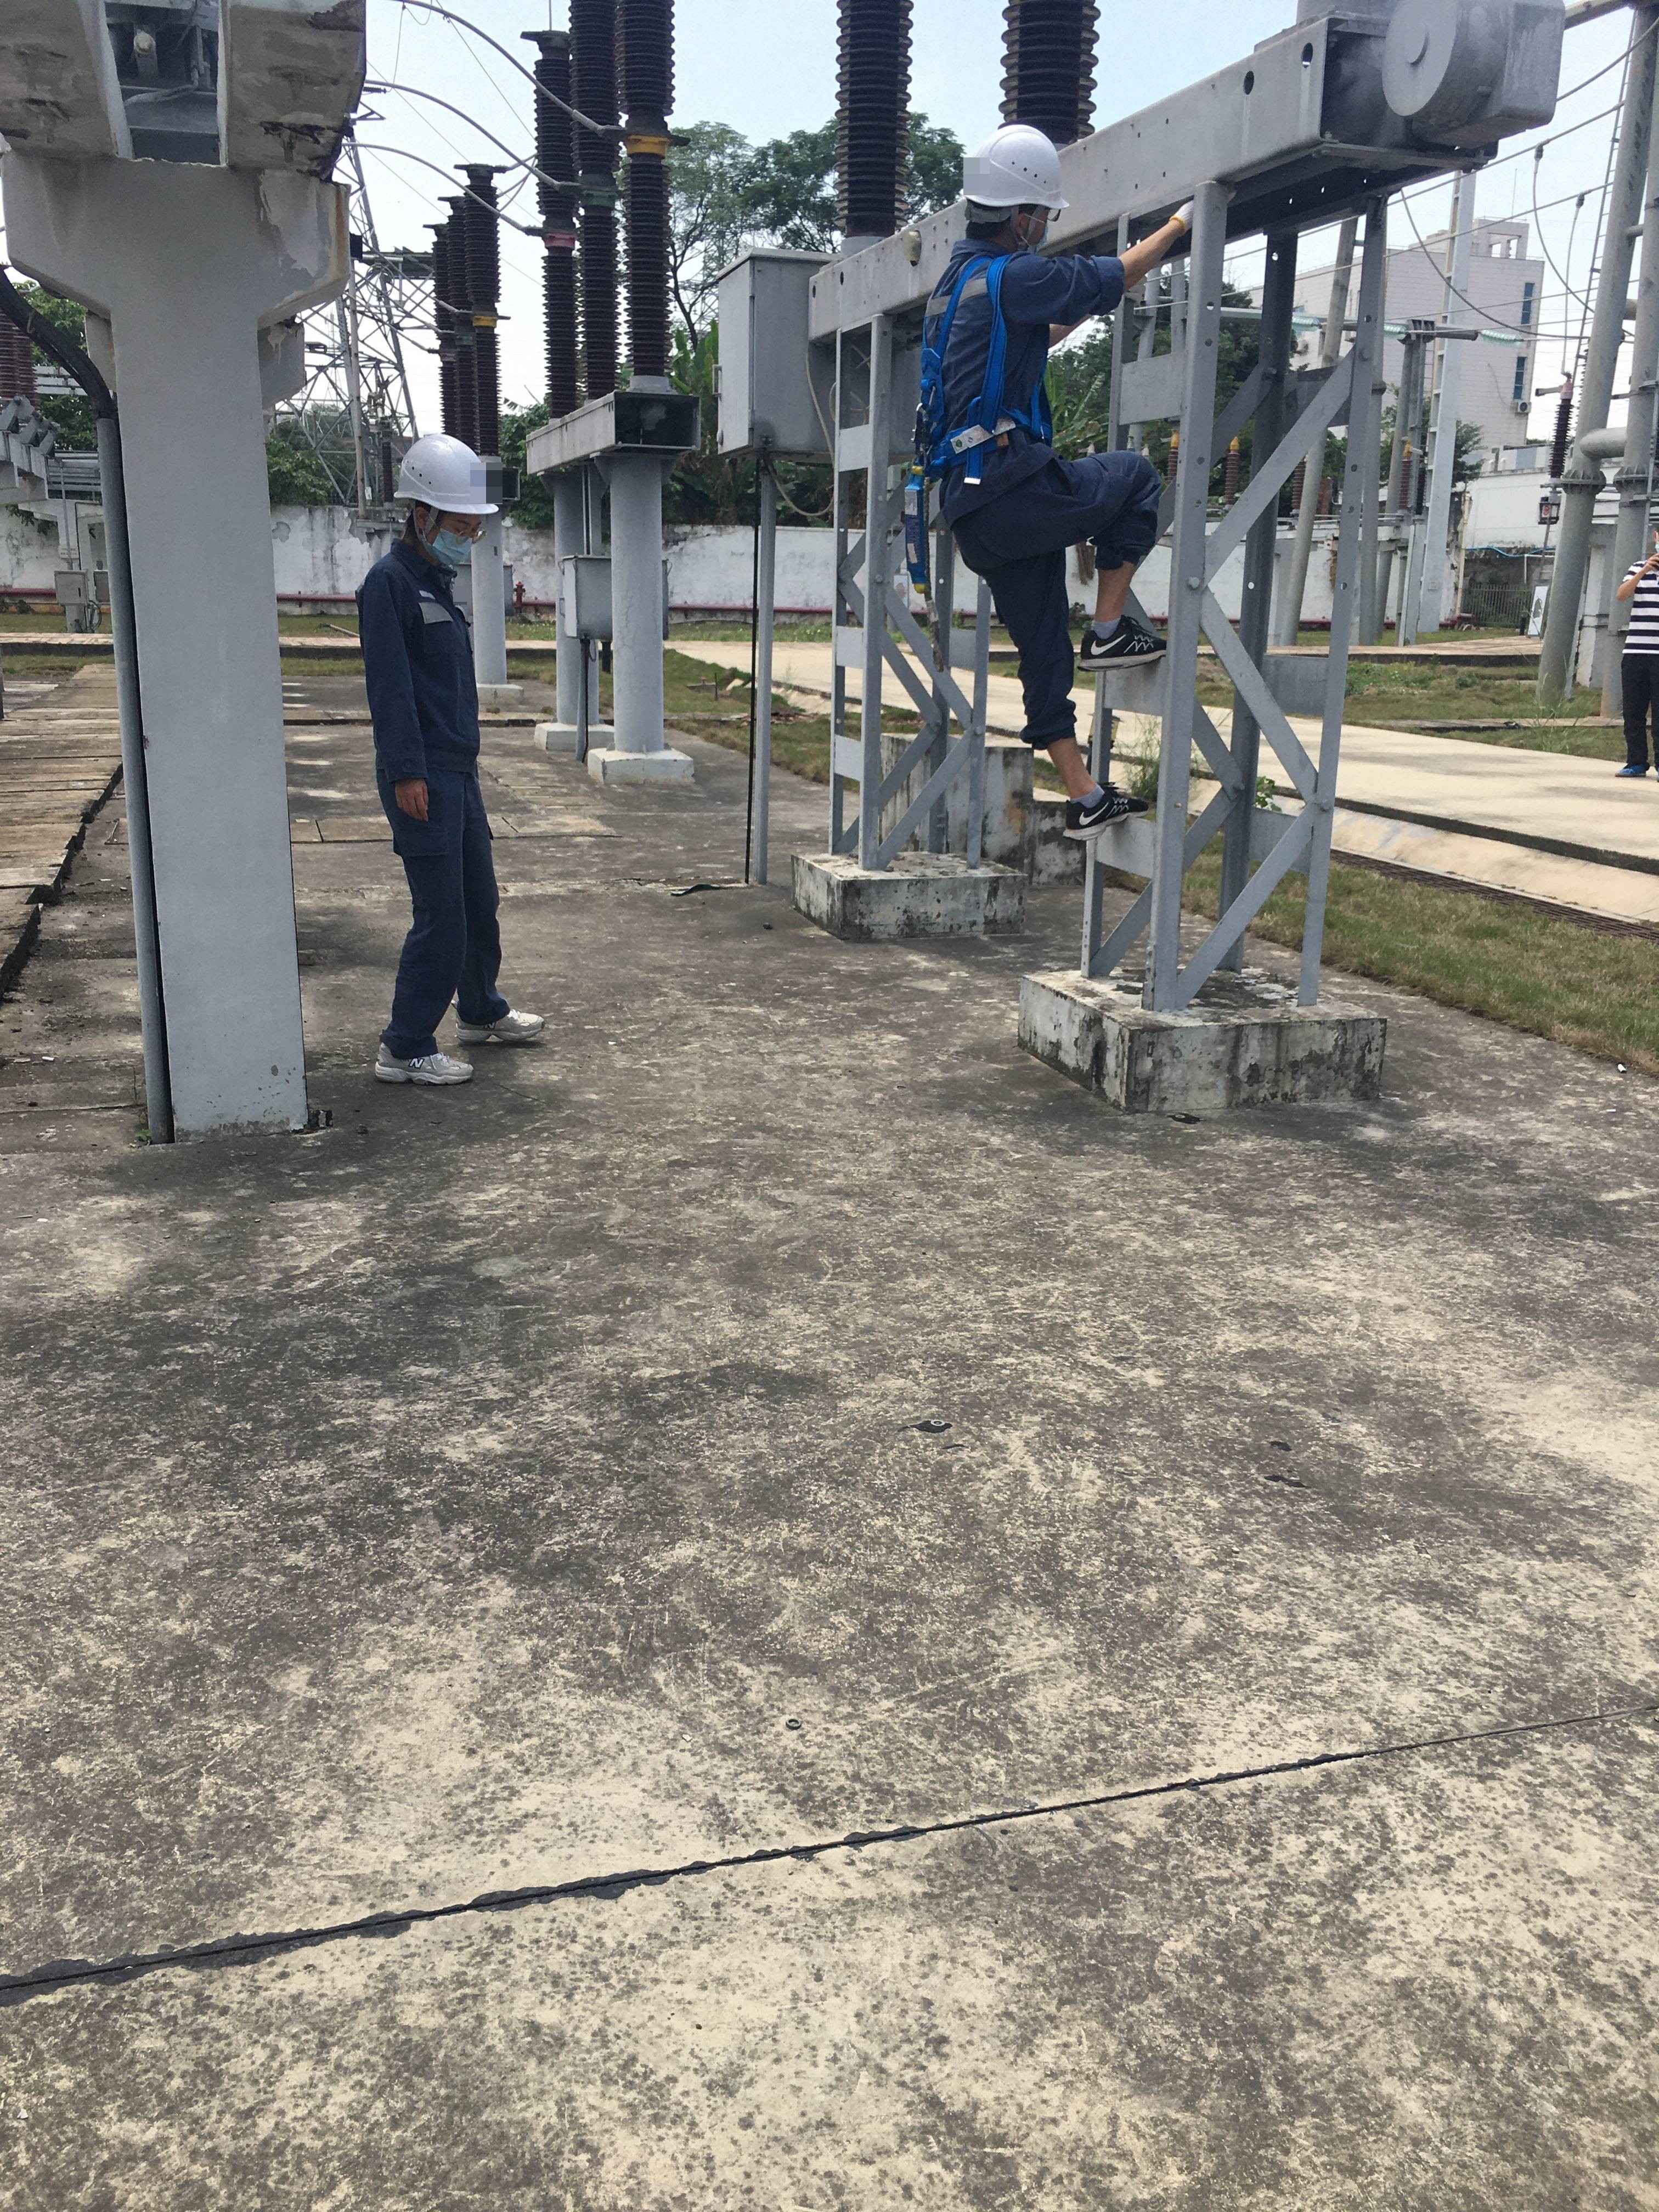downcloth: (1621, 653, 1659, 772)
downsuit: (957, 465, 1159, 747), (378, 784, 514, 1049)
upcloth: (1621, 573, 1659, 648)
upsuit: (918, 249, 1124, 453), (359, 549, 490, 768)
wrongbottom: (1072, 509, 1155, 636), (1030, 702, 1094, 812)
wrongtop: (1091, 214, 1187, 298)
